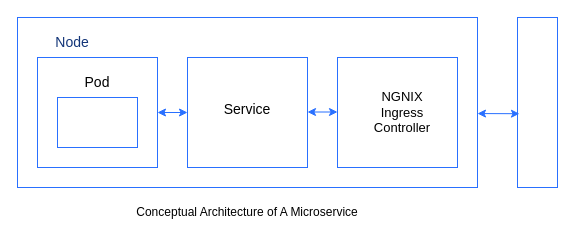
Some shapes in this 575 by 245 pixel diagram are drawn without their labels. The shapes that lost their labels are listed below. From the top down, each one's box as (x1, y1, x2, y2) in pixels, then its label:
(56, 96, 138, 148): Container
(516, 16, 558, 188): G A T E W A Y
